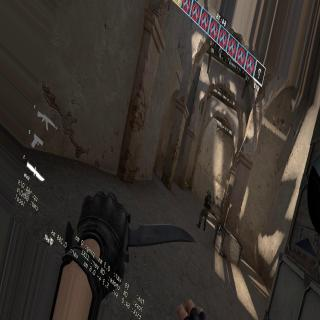CT-Body: (196, 186, 212, 232)
CT-Head: (207, 187, 211, 194)
